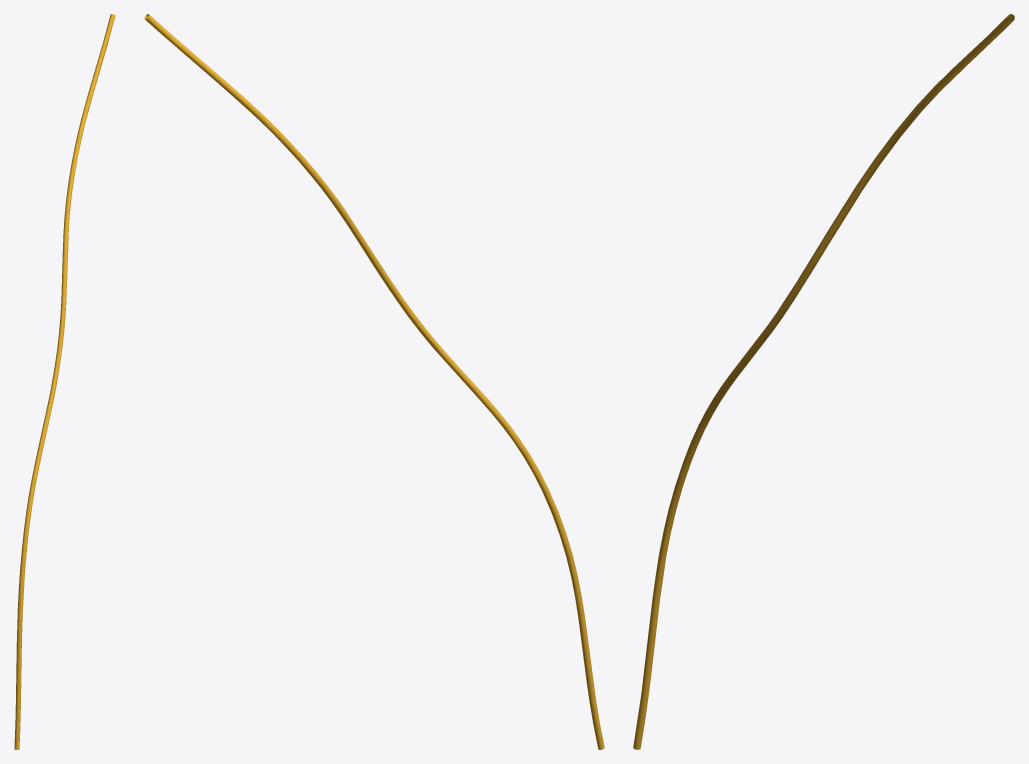
The model's file is nervoso-palmar-branch-of-ulnar-nerve-r.glb.
3 views of the same model, side by side, from view 1: azimuth 30°, elevation 25°; view 2: azimuth 150°, elevation 25°; view 3: azimuth 270°, elevation 25° (orthographic). The views are drawn at different scales.
Visible parts, largest first — view 1: Palmar branch of ulnar nerve.r; view 2: Palmar branch of ulnar nerve.r; view 3: Palmar branch of ulnar nerve.r.
Part boxes in pixels (left/top/right/bottom): Palmar branch of ulnar nerve.r: left=14, top=14, right=115, bottom=749; Palmar branch of ulnar nerve.r: left=144, top=14, right=604, bottom=749; Palmar branch of ulnar nerve.r: left=633, top=14, right=1014, bottom=749.
Size of the model in its own units: 0.0502 by 0.1267 by 0.0489.
